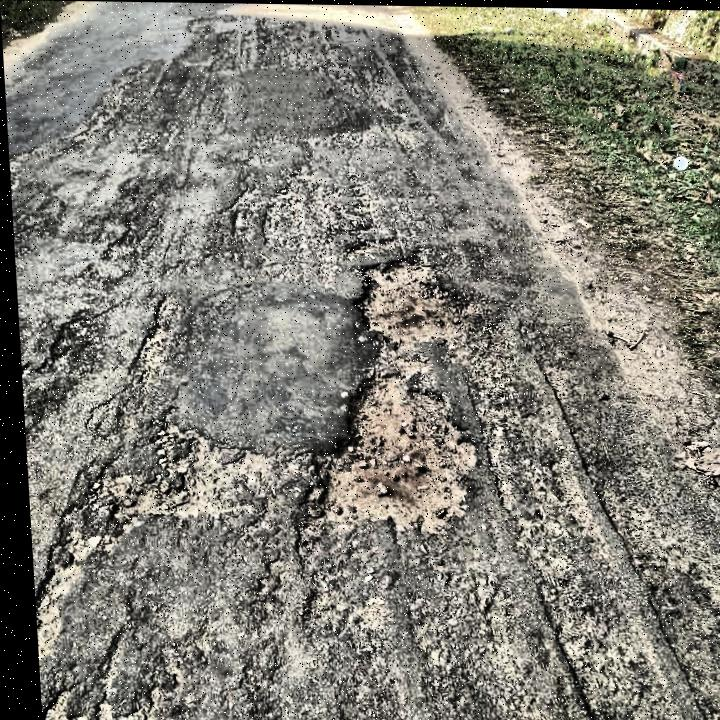pothole: (298, 364, 478, 532), (79, 428, 251, 524), (347, 247, 466, 341)
